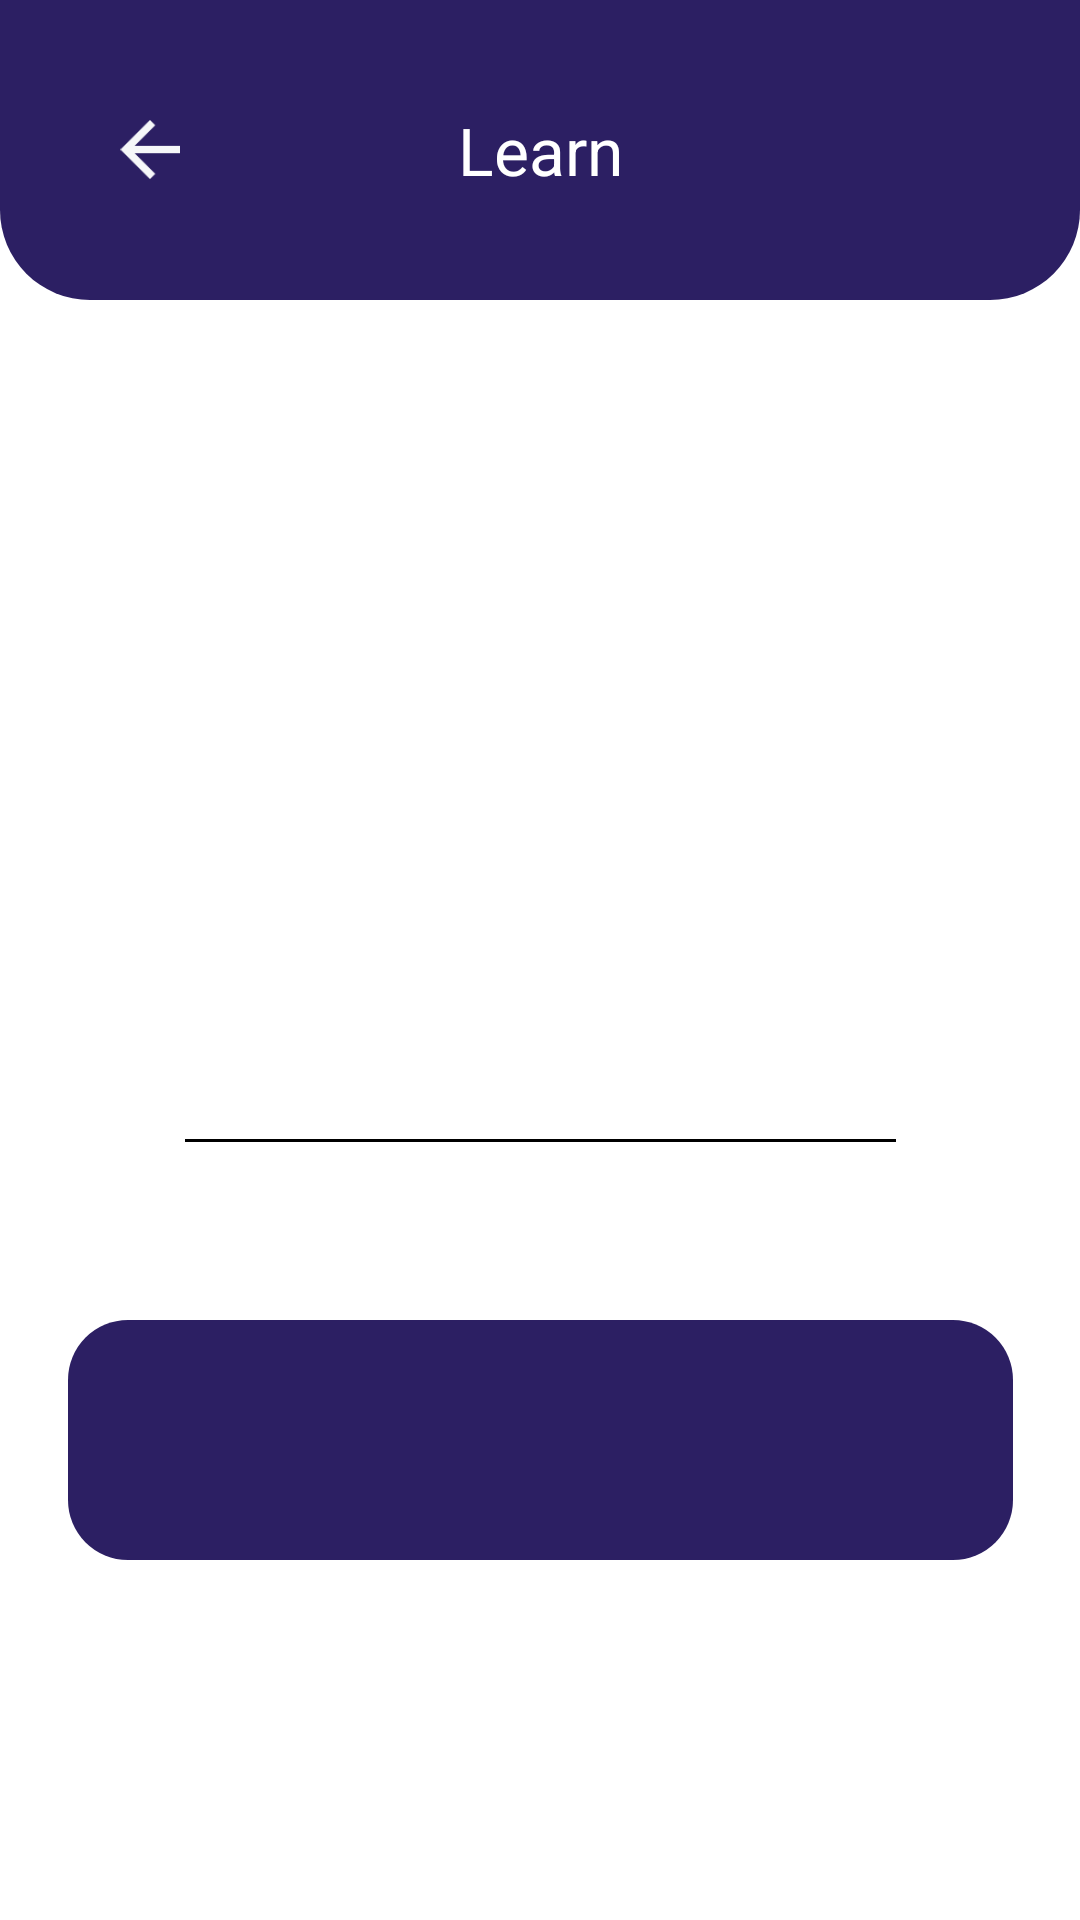

Icons on this 1080px×1920px Android screen, each with the point to tap as (x,y):
back: (150,149)
